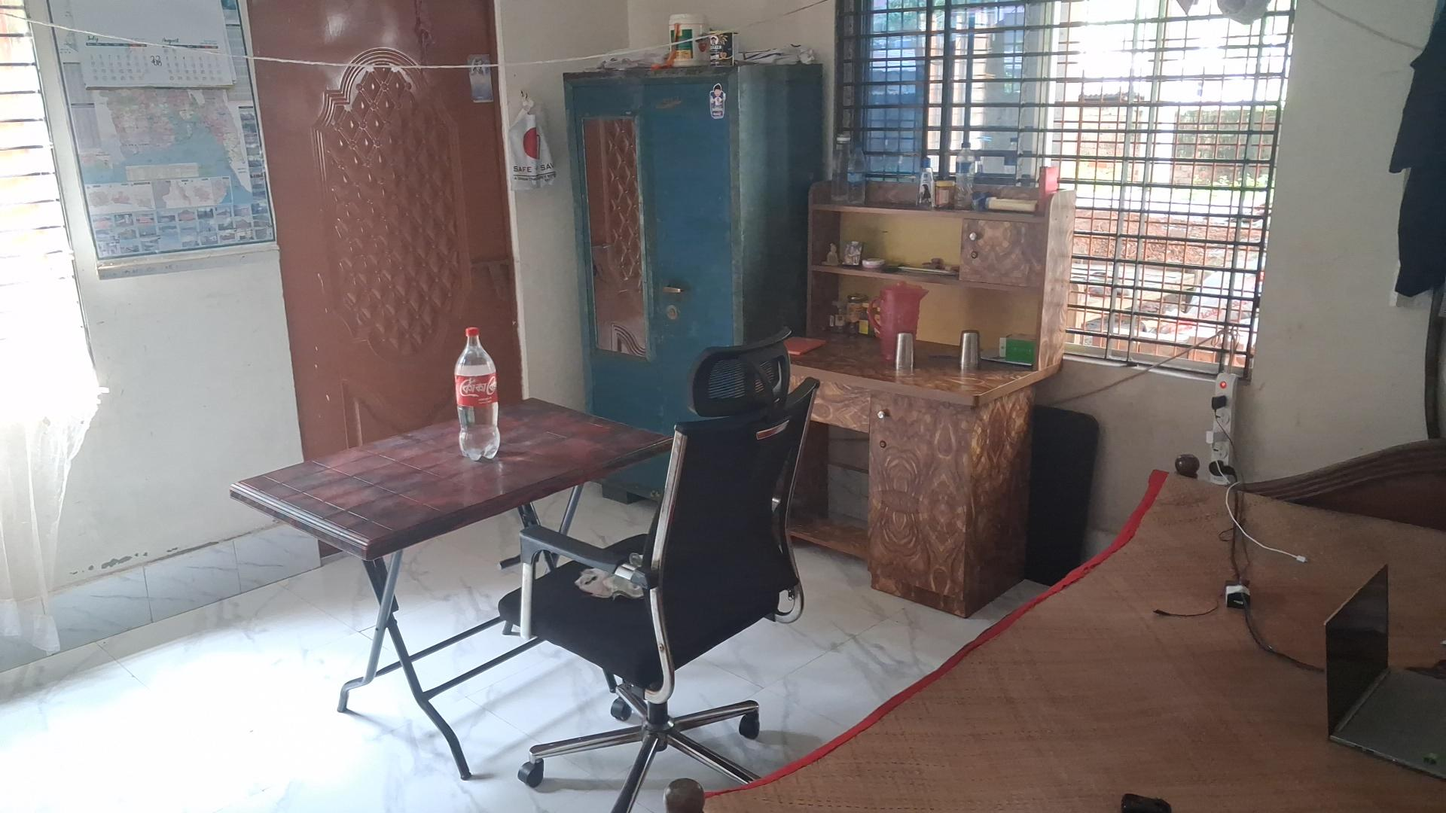Bag: (498, 88, 558, 193)
Bottle: (454, 328, 500, 461), (830, 135, 850, 203), (956, 141, 973, 209), (985, 196, 1038, 213), (852, 143, 866, 206), (918, 156, 935, 207)
Box: (998, 333, 1037, 362)
Chair: (500, 377, 819, 811)
Door: (244, 5, 536, 420)
Glass: (960, 329, 981, 371), (895, 332, 914, 371)
Jar: (667, 12, 713, 67), (714, 30, 741, 67), (847, 293, 863, 336), (831, 298, 848, 332), (936, 181, 954, 209), (860, 302, 874, 336)
Jug: (871, 283, 926, 362)
Laptop: (1325, 564, 1445, 780)
Table: (230, 364, 653, 700)
Window: (1054, 0, 1274, 366)
